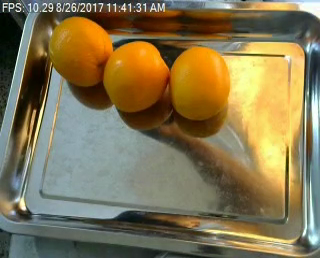Orange: (104, 39, 171, 113), (47, 15, 112, 85), (170, 45, 230, 120)
